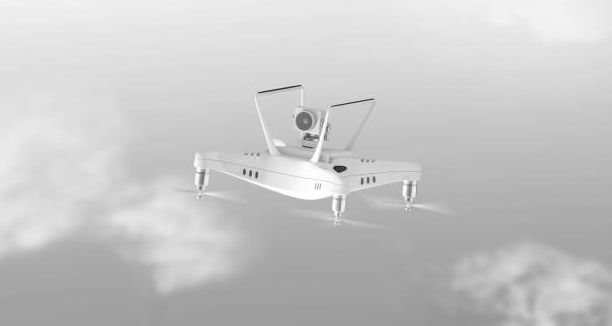Drone: (169, 83, 461, 236)
